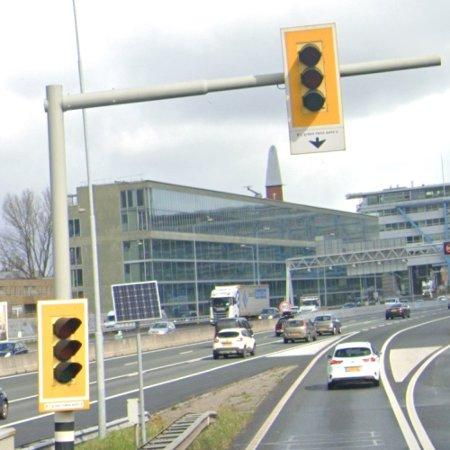traffic lights: (282, 23, 346, 154)
